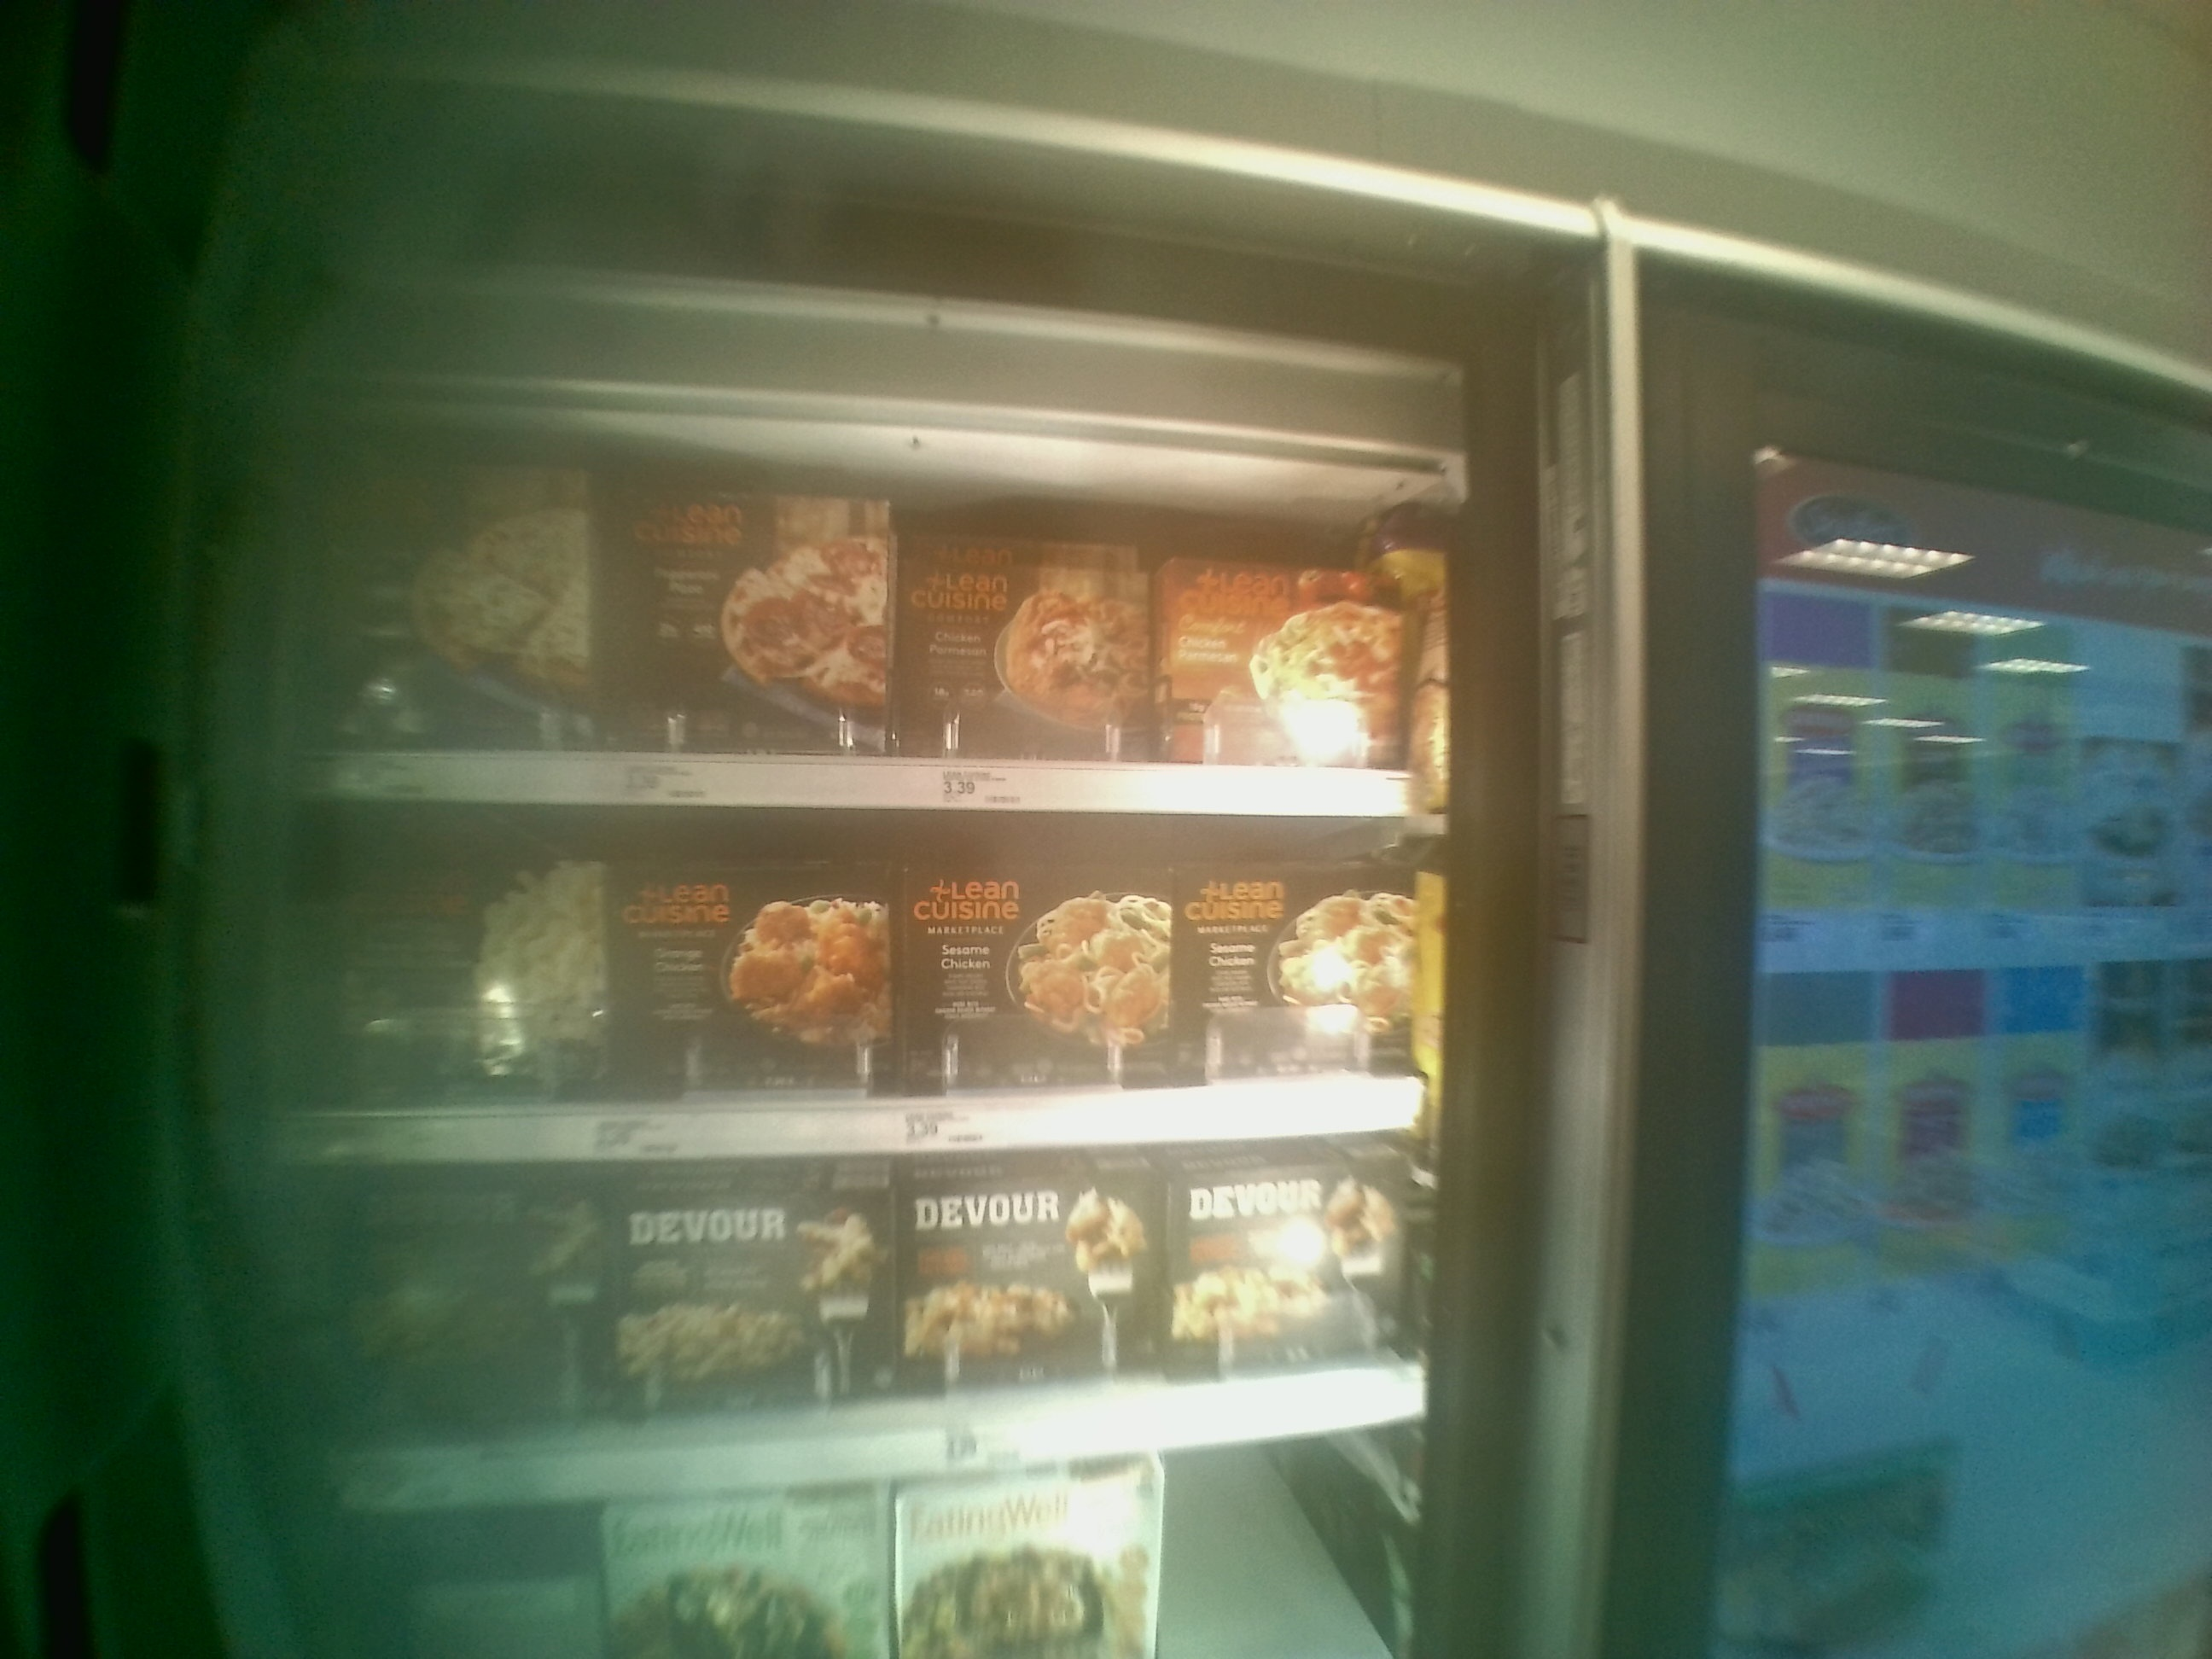shelf: (303, 387, 1433, 817), (308, 1133, 1430, 1525), (308, 802, 1430, 1168)
